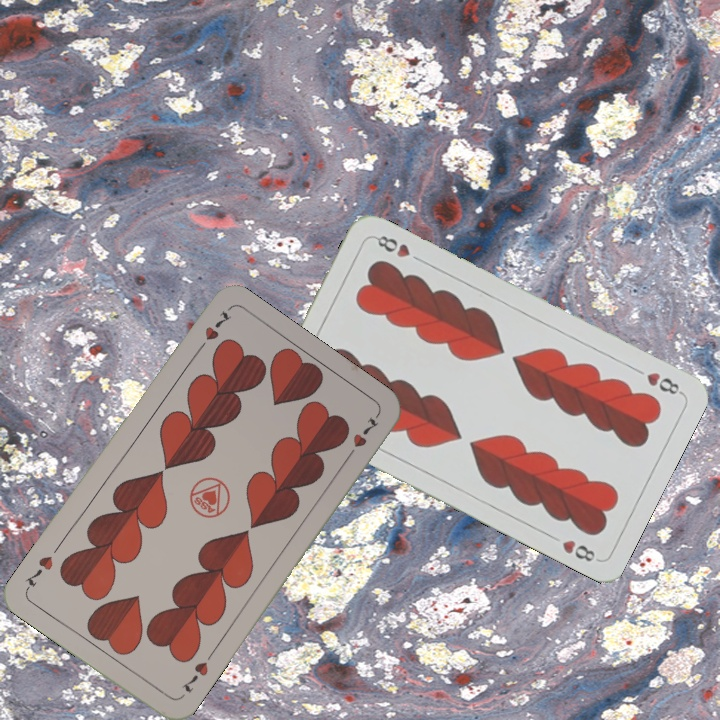H7: (191, 306, 234, 356), (177, 657, 211, 696)
H8: (642, 368, 685, 398)
